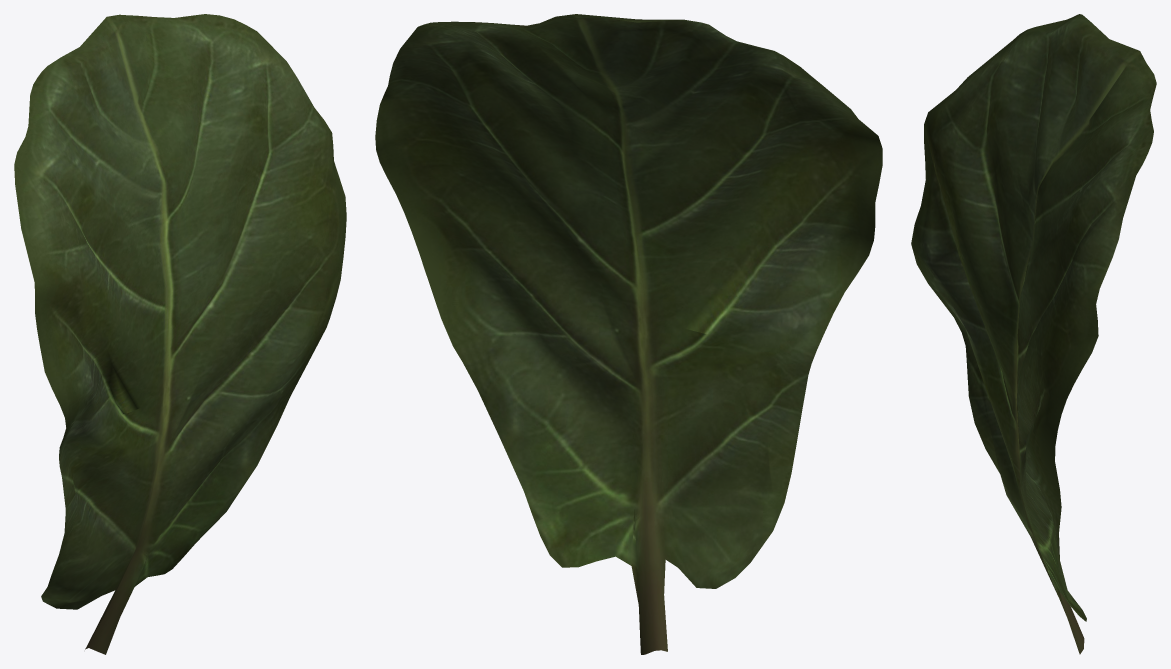
3 views of the same model, side by side, from view 1: azimuth 30°, elevation 25°; view 2: azimuth 150°, elevation 25°; view 3: azimuth 270°, elevation 25° (orthographic). The views are drawn at different scales.
Visible parts, largest first — view 1: G-Plane209 68% 68% 68% 68%.013; view 2: G-Plane209 68% 68% 68% 68%.013; view 3: G-Plane209 68% 68% 68% 68%.013.
Boxes of the visible parts, bbox=[...] form: G-Plane209 68% 68% 68% 68%.013: bbox=[14, 14, 346, 654]; G-Plane209 68% 68% 68% 68%.013: bbox=[375, 14, 882, 654]; G-Plane209 68% 68% 68% 68%.013: bbox=[911, 14, 1156, 654].
Bounding box in the file's own units: 0.8675 × 1.3 × 0.4674.
Materials: 1 (1 with a texture image).
